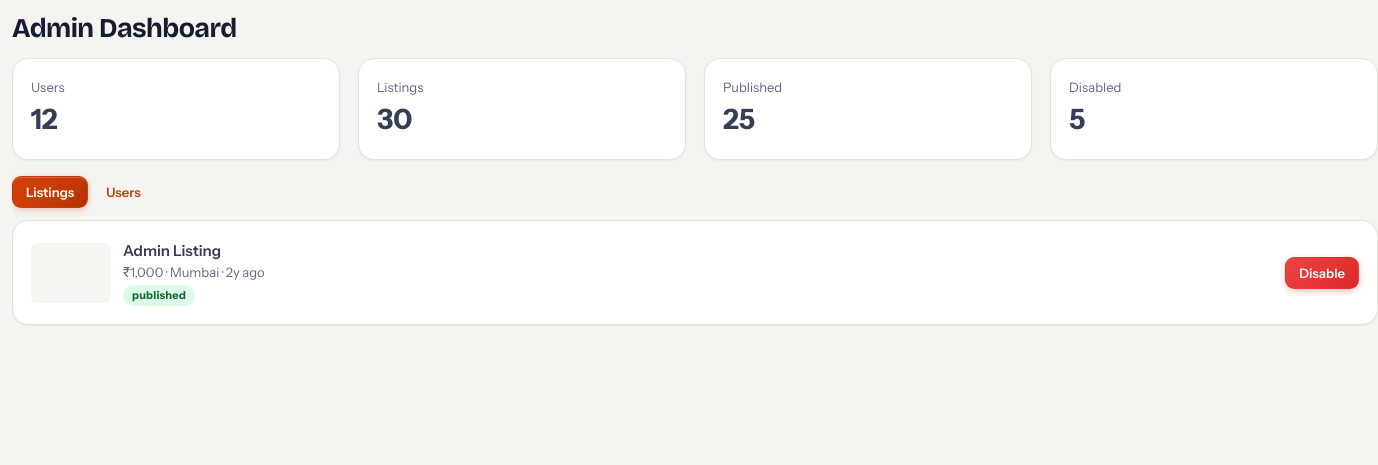
it: AdminDashboard › switching to the Users tab loads and renders users
The width and height of the screenshot is (1378, 465).
Expected: the link "Admin Listing" is shown, [123,241,221,260]
Step 1. Click the button "Users" → (123, 192), box [92,176,155,208]
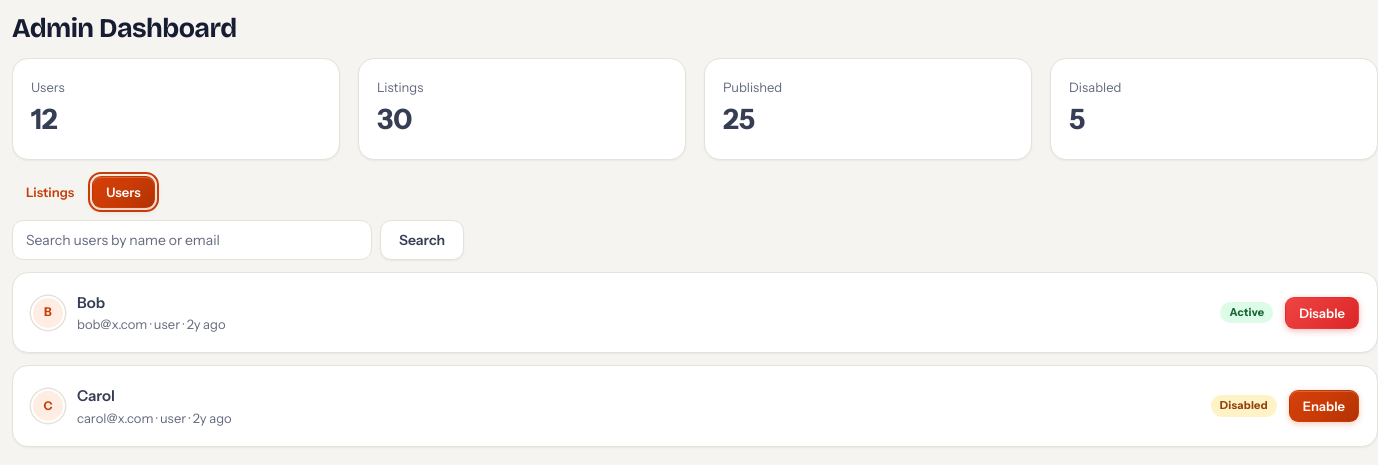
Expected: the text "Bob" is shown, [77,293,105,312]
Expected: the text "Carol" is shown, [77,386,115,405]
Expected: the text "Active" is shown, [1220,302,1273,323]
